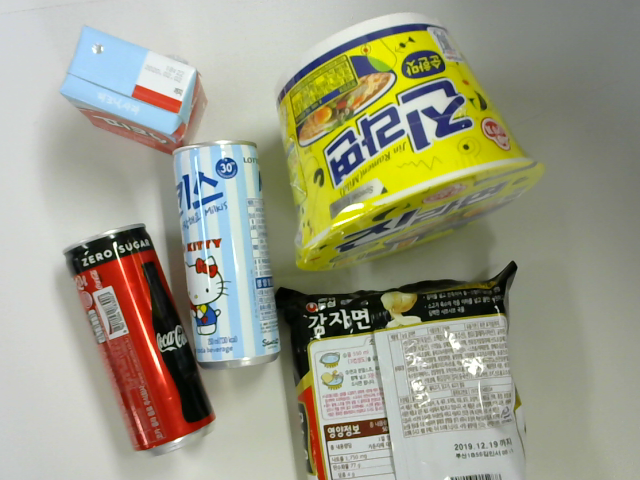Coca_Cola_Zero_Can_250ml: (55, 210, 214, 460)
Jinlamyeon_Mild_Taste_Large_Cup: (257, 10, 540, 267)
Milkies_250ml: (155, 128, 279, 372)
Picnic_Apple: (55, 28, 205, 154)
Potato: (273, 270, 527, 480)
